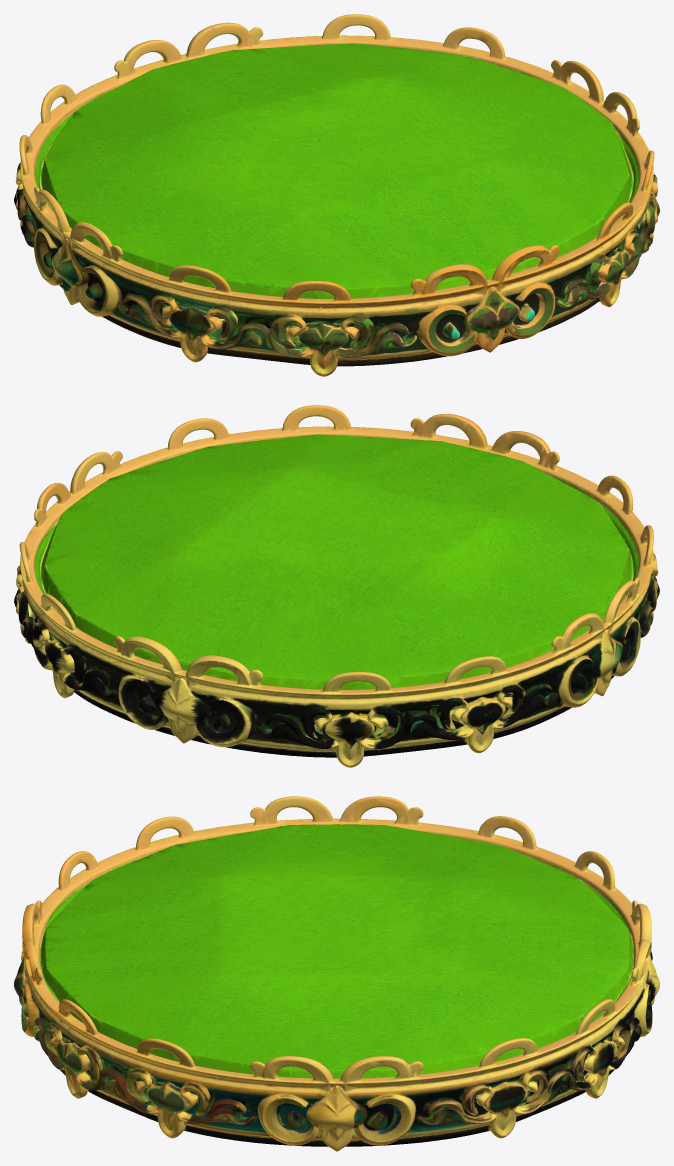
Rendered from stage clear_final.glb.
3 views of the same model, one above another, from view 1: azimuth 30°, elevation 25°; view 2: azimuth 150°, elevation 25°; view 3: azimuth 270°, elevation 25° (orthographic).
Bounding box in the file's own units: 1.9 × 0.3331 × 1.9.
Materials: 1 (1 with a texture image).
